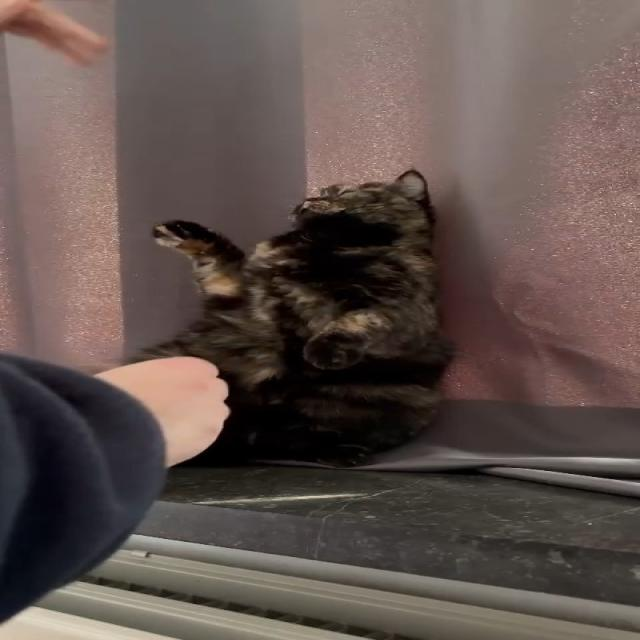authorized: (128, 167, 456, 468)
